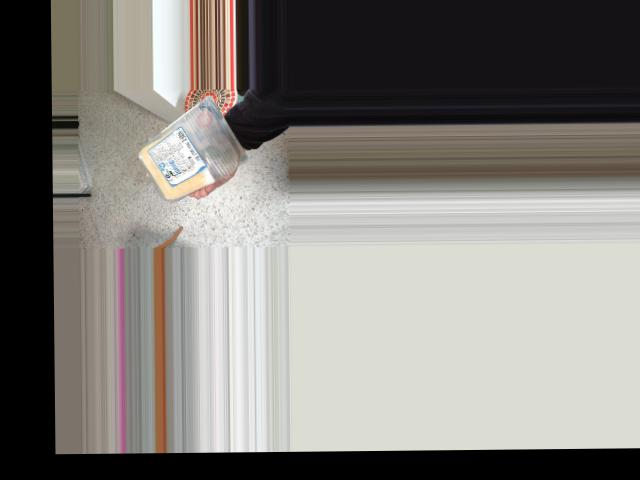cheese: (133, 105, 233, 188)
